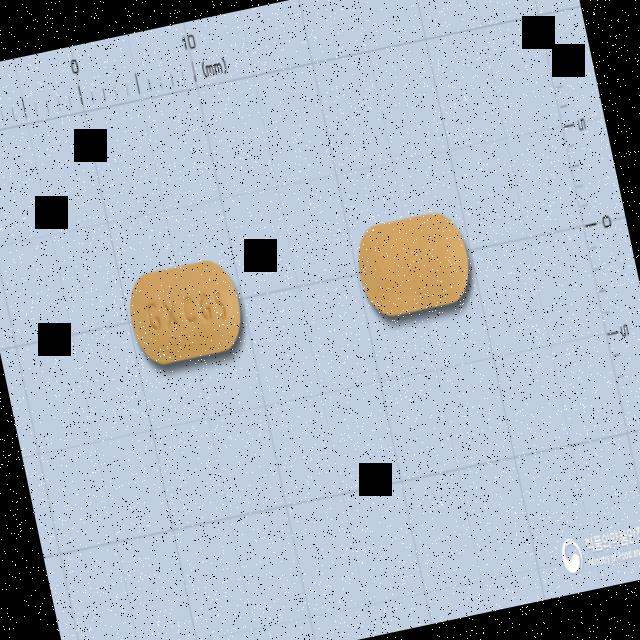Zeffix Tab: (120, 254, 250, 370)
